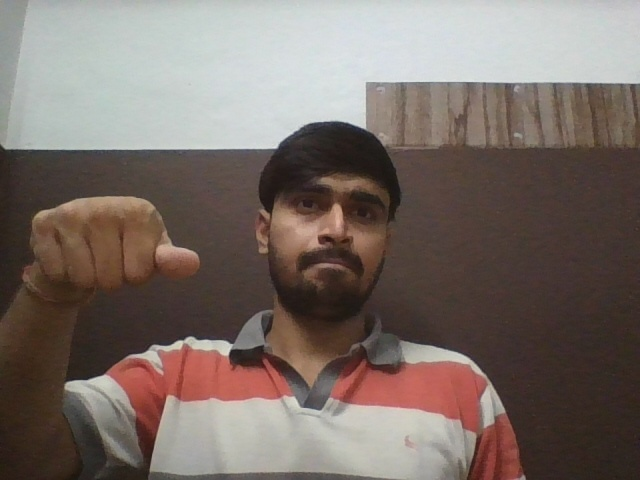Yes: (32, 193, 201, 290)
